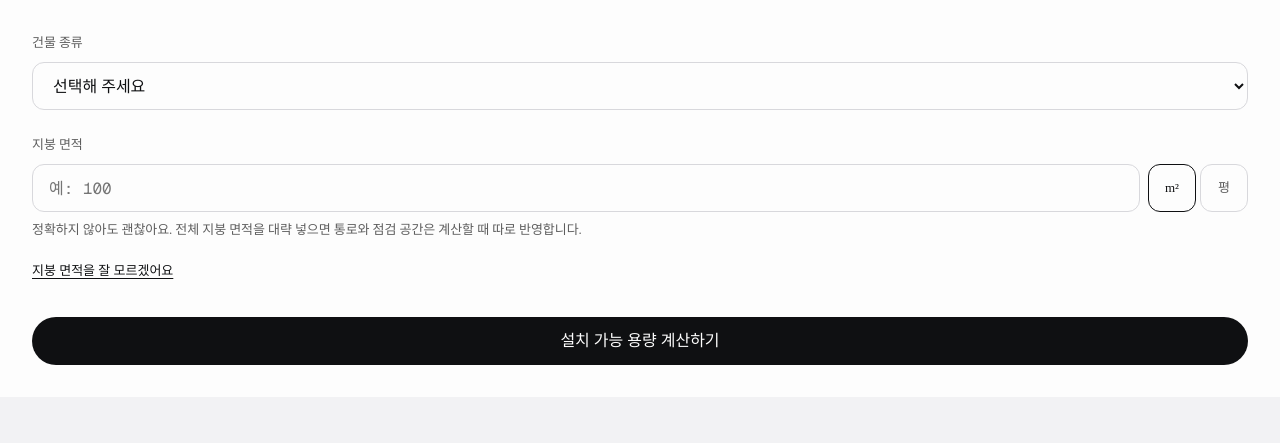
Test: SolarCalculator area unit feedback › clears the conversion notice after the user edits the area
In the number field labelled "지붕 면적": (586, 188) [32,164,1140,212], type "100"
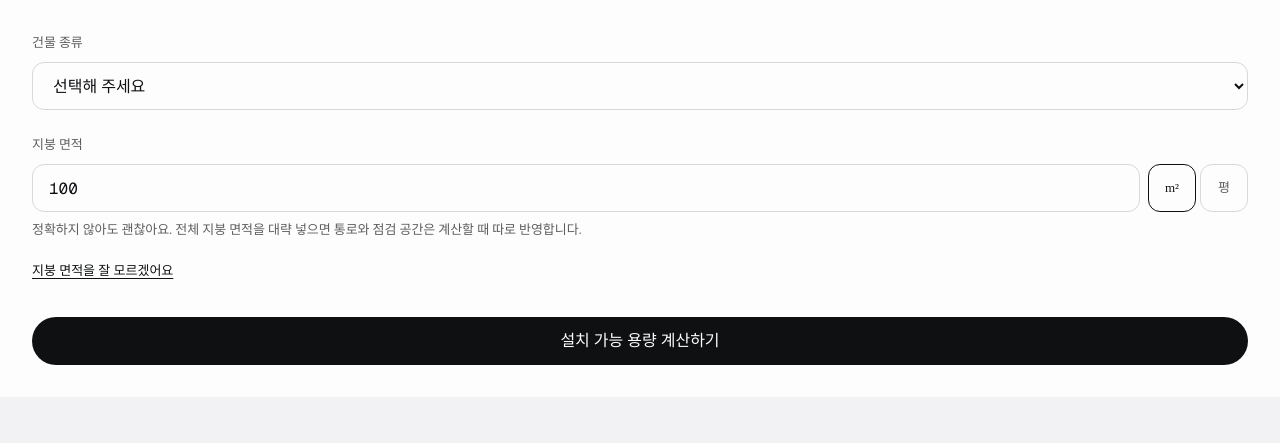
Click the button "평": click(1224, 188) [1200,164,1248,212]
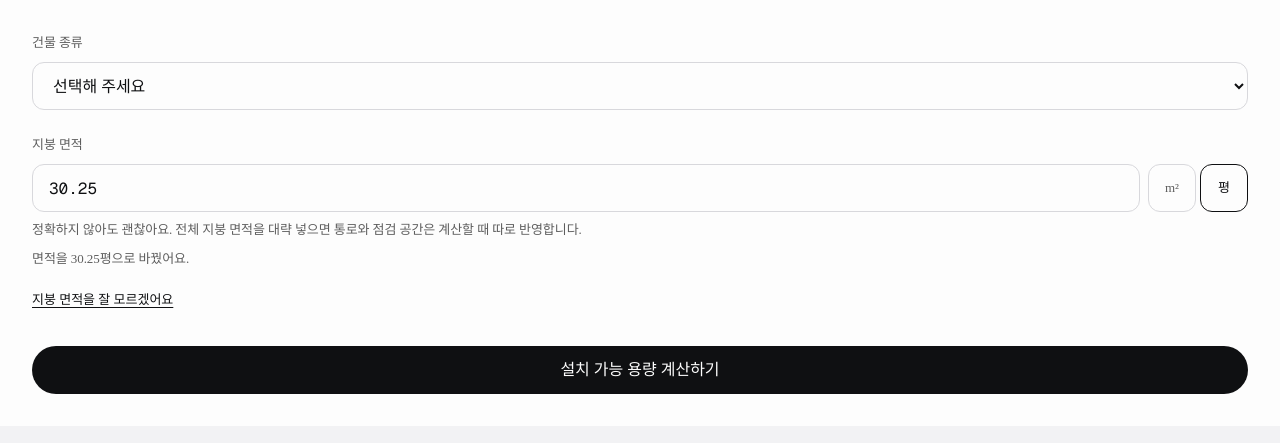
Replace the text in the number field labelled "지붕 면적" with "31": (586, 188) [32,164,1140,212]
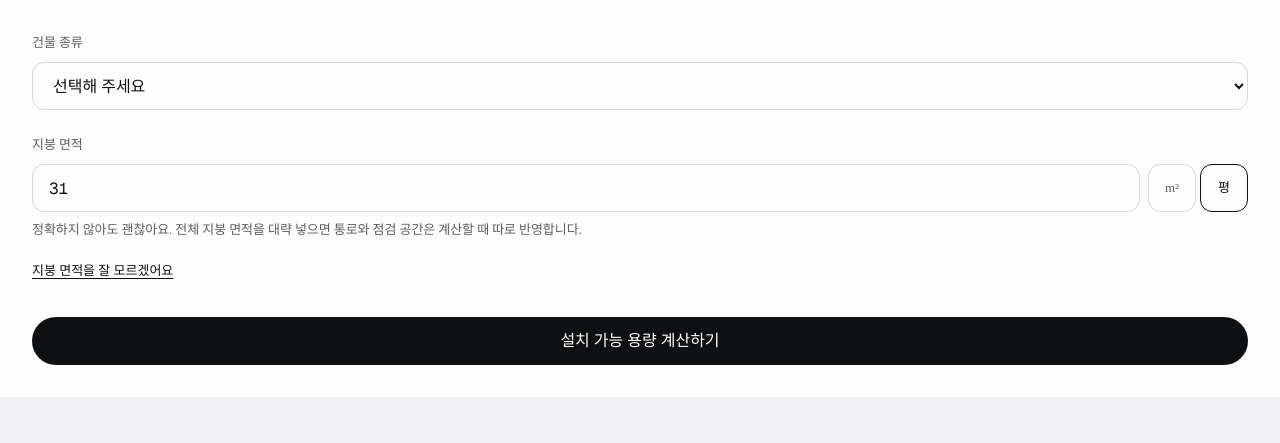
Result: the text "면적을 30.25평으로 바꿨어요." is gone
